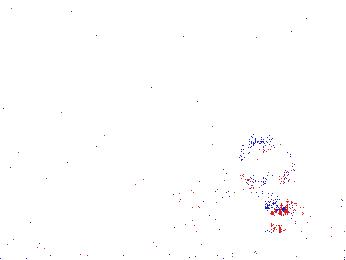flame jellyfish: (238, 131, 292, 214), (276, 172, 346, 232), (172, 165, 237, 223)
